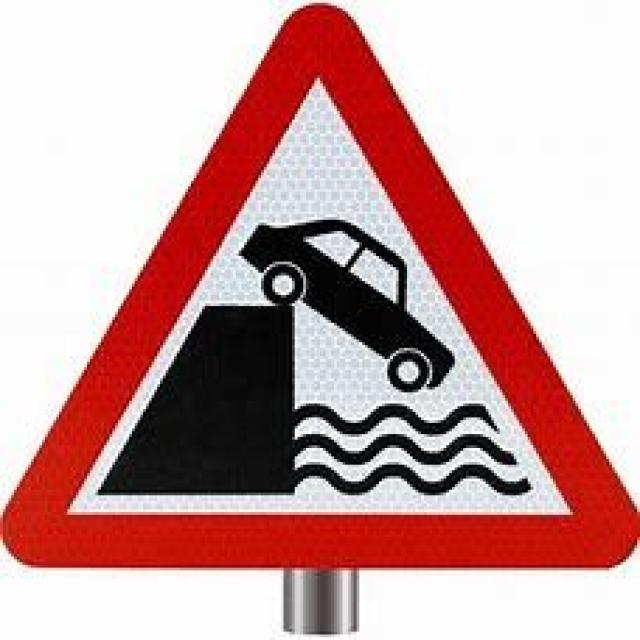quay side or river bank: (28, 31, 625, 611)
